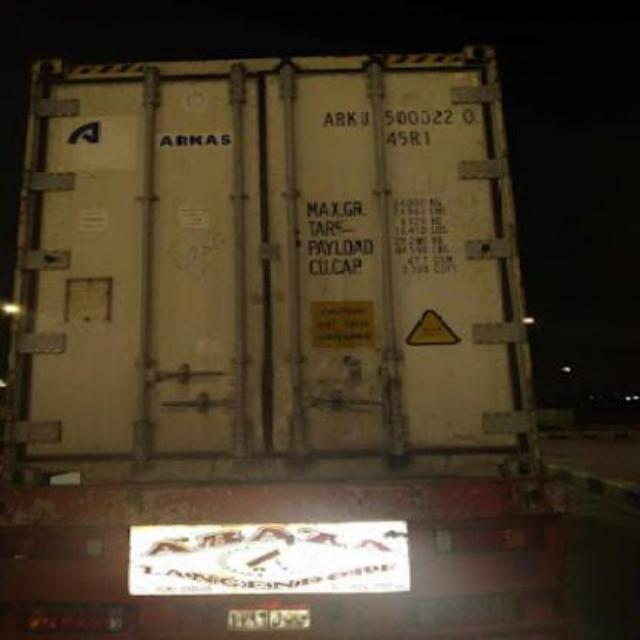0: (396, 110, 408, 126), (462, 110, 474, 126), (408, 108, 418, 126), (420, 110, 430, 126)
2: (432, 108, 442, 126), (442, 108, 452, 126)
5: (386, 108, 394, 126)
A: (320, 111, 336, 131)
K: (342, 111, 358, 127)
R: (334, 111, 342, 127)
U: (358, 111, 372, 129)
